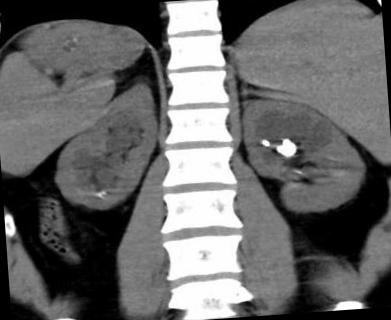Tas_Var: (273, 134, 299, 165), (288, 168, 306, 180), (257, 136, 272, 150), (96, 192, 105, 201), (101, 190, 105, 195)
